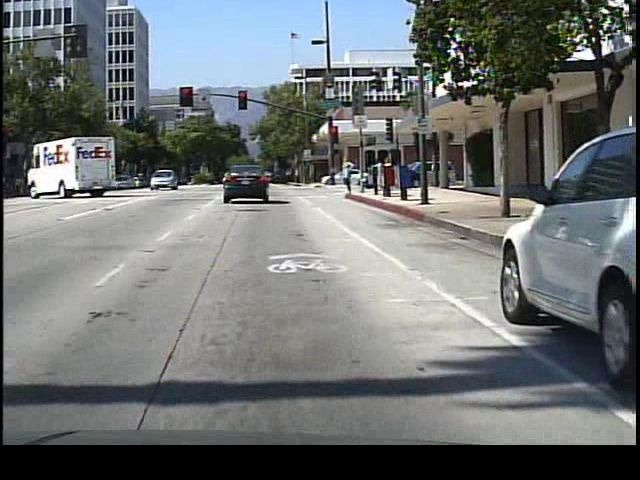person: (340, 151, 361, 198)
